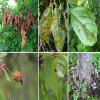Apple rust leaf: (39, 1, 68, 52)
